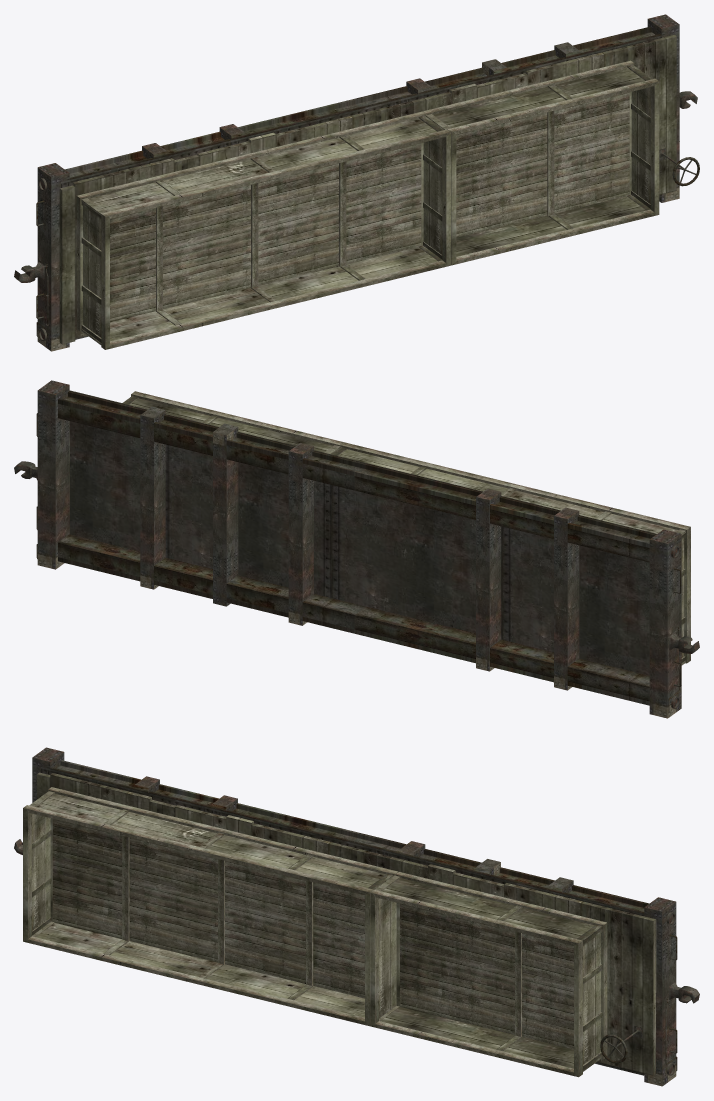
The model's file is prop_traincar_flatfullbox.glb.
3 views of the same model, one above another, from view 1: azimuth 30°, elevation 25°; view 2: azimuth 150°, elevation 25°; view 3: azimuth 330°, elevation 25° (orthographic).
Bounding box in the file's own units: 397 × 97.54 × 45.97.
Materials: 1 (1 with a texture image).
